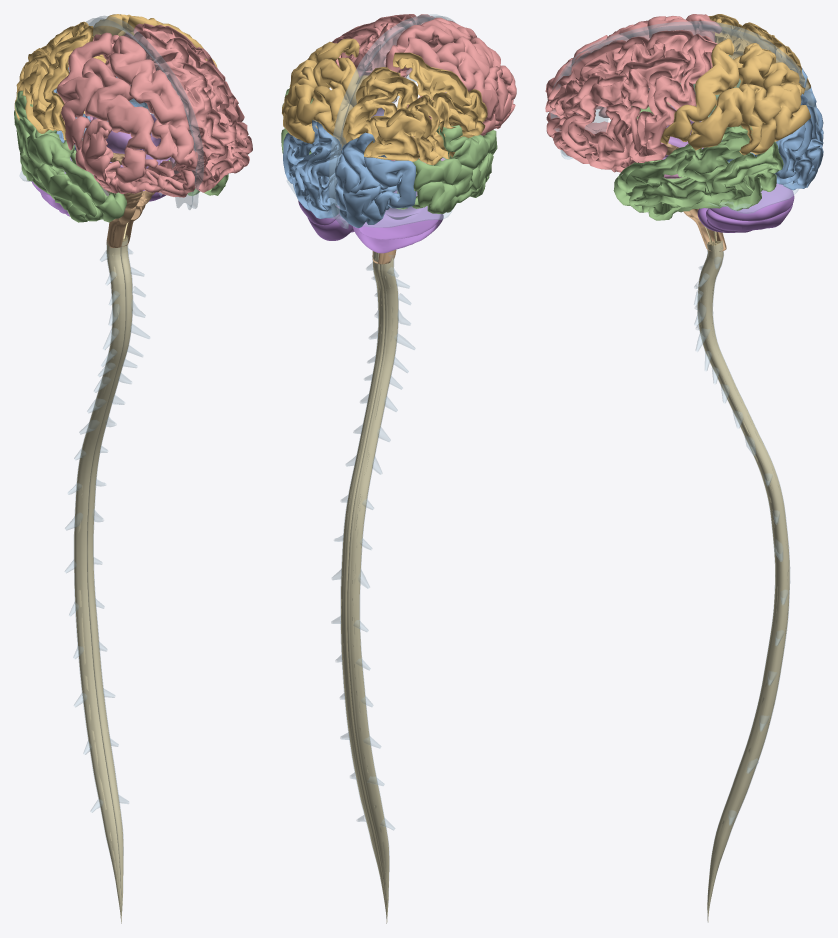
The model's file is sistema-central.glb.
The picture shows the model from 3 angles, left to right: view 1: azimuth 30°, elevation 25°; view 2: azimuth 150°, elevation 25°; view 3: azimuth 270°, elevation 25°; orthographic projection.
Visible parts, largest first — view 1: lobulo-frontal, meninges, medula-espinal, lobulo-temporal, lobulo-parietal, tronco-encefalico, diencefalo; view 2: meninges, lobulo-parietal, medula-espinal, lobulo-occipital, lobulo-frontal, lobulo-temporal, cerebelo; view 3: lobulo-frontal, meninges, lobulo-parietal, medula-espinal, lobulo-temporal, lobulo-occipital, cerebelo.
Boxes of the visible parts, bbox=[...] form: lobulo-frontal: bbox=[56, 23, 252, 197]; meninges: bbox=[19, 16, 203, 921]; medula-espinal: bbox=[74, 222, 132, 923]; lobulo-temporal: bbox=[14, 90, 228, 222]; lobulo-parietal: bbox=[14, 14, 217, 140]; tronco-encefalico: bbox=[102, 143, 160, 247]; diencefalo: bbox=[106, 114, 170, 175]; meninges: bbox=[287, 14, 455, 918]; lobulo-parietal: bbox=[282, 38, 487, 165]; medula-espinal: bbox=[341, 251, 398, 923]; lobulo-occipital: bbox=[283, 120, 415, 227]; lobulo-frontal: bbox=[332, 14, 516, 135]; lobulo-temporal: bbox=[281, 88, 497, 214]; cerebelo: bbox=[298, 190, 443, 253]; lobulo-frontal: bbox=[545, 14, 721, 172]; meninges: bbox=[550, 21, 818, 916]; lobulo-parietal: bbox=[660, 14, 810, 155]; medula-espinal: bbox=[697, 226, 789, 922]; lobulo-temporal: bbox=[613, 55, 783, 220]; lobulo-occipital: bbox=[727, 68, 823, 190]; cerebelo: bbox=[697, 183, 794, 232].
Size of the model in its own units: 0.1378 by 0.6458 by 0.1807.
